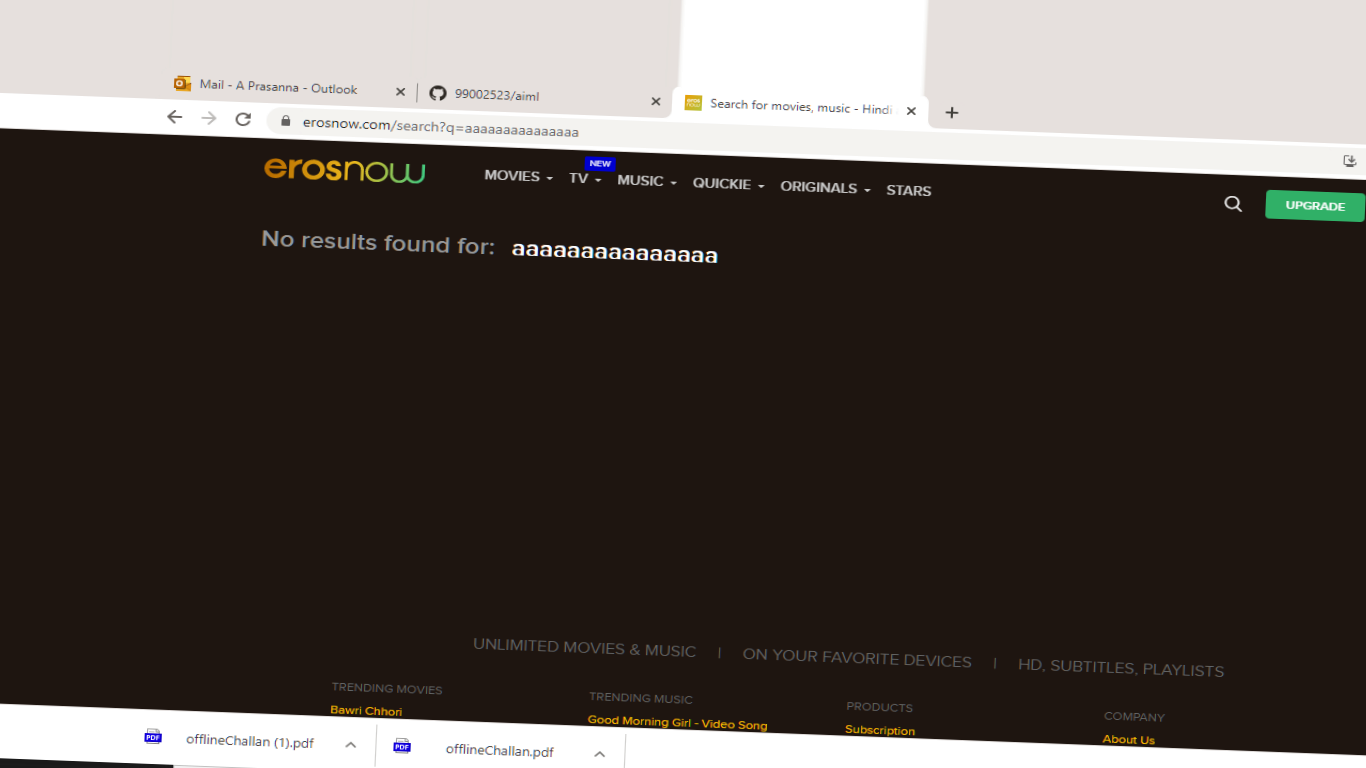noresultsfound: (241, 204, 736, 289)
searchicon: (1212, 183, 1256, 217)
